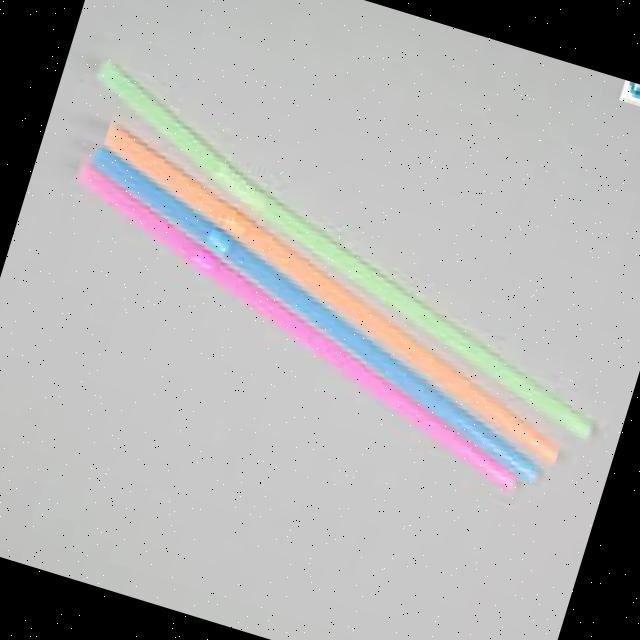plastic: (10, 20, 640, 481)
